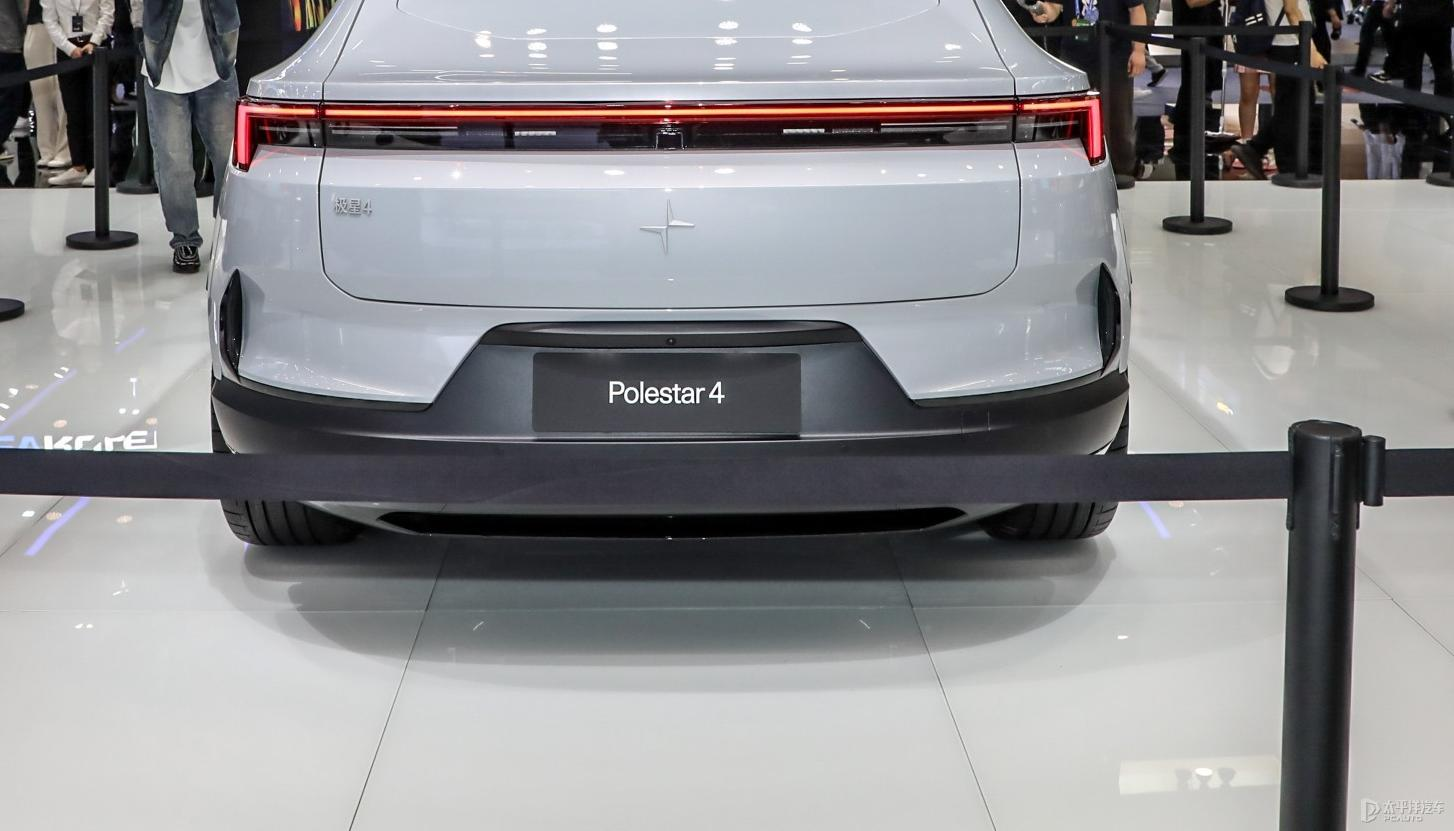Polestar: (641, 201, 694, 254)
